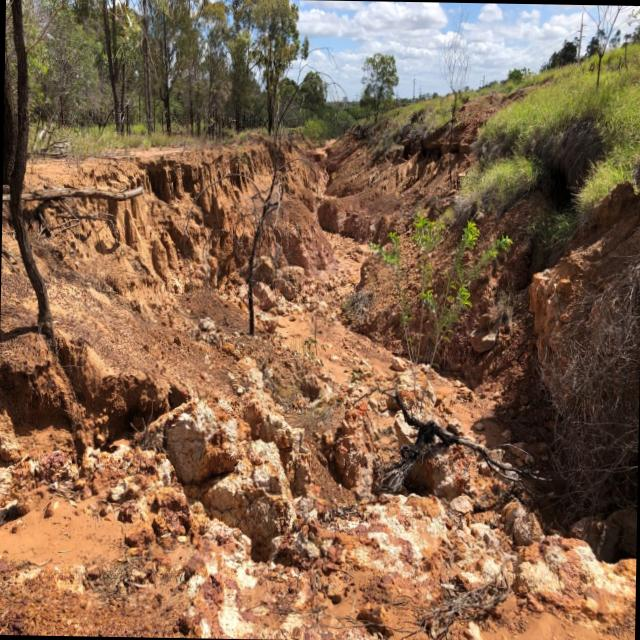red-sand: (0, 148, 636, 640), (1, 227, 7, 233)
